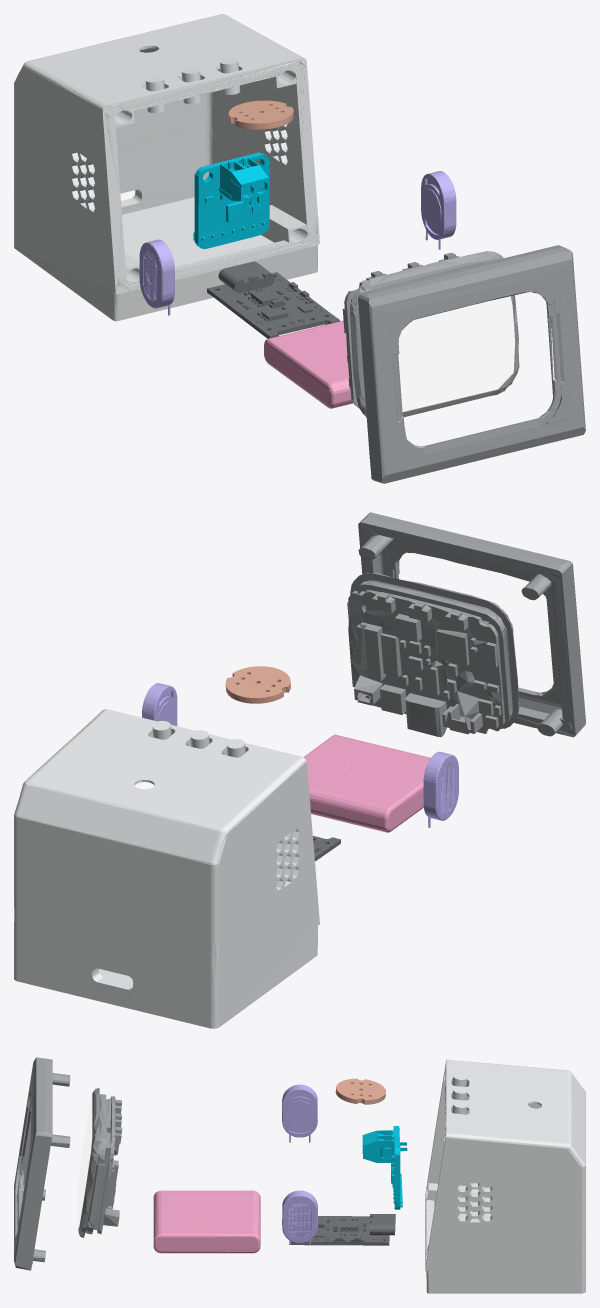
Rendered from v2-open.glb.
The picture shows the model from 3 angles, top to bottom: view 1: azimuth 30°, elevation 25°; view 2: azimuth 150°, elevation 25°; view 3: azimuth 270°, elevation 25°; orthographic projection. The views are drawn at different scales.
Visible parts, largest first — view 1: govde, taban, iva-screen, kart, ekran, hoparlor, yan-2, yan, buton; view 2: govde, taban, hoparlor, yan, buton, yan-2; view 3: govde, taban, hoparlor, ekran, kart, yan, yan-2, buton, iva-screen.
Boxes of the visible parts, x1=… form: govde: x1=14, y1=14, x2=319, y2=321; taban: x1=342, y1=245, x2=585, y2=483; iva-screen: x1=398, y1=261, x2=514, y2=411; kart: x1=193, y1=152, x2=269, y2=249; ekran: x1=207, y1=261, x2=339, y2=338; hoparlor: x1=264, y1=320, x2=353, y2=408; yan-2: x1=421, y1=171, x2=456, y2=249; yan: x1=139, y1=239, x2=174, y2=315; buton: x1=228, y1=100, x2=293, y2=129; govde: x1=14, y1=709, x2=319, y2=1028; taban: x1=347, y1=512, x2=585, y2=737; hoparlor: x1=303, y1=734, x2=430, y2=832; yan: x1=423, y1=751, x2=458, y2=827; buton: x1=225, y1=666, x2=290, y2=703; yan-2: x1=142, y1=683, x2=177, y2=725; govde: x1=425, y1=1059, x2=585, y2=1293; taban: x1=14, y1=1057, x2=122, y2=1270; hoparlor: x1=153, y1=1190, x2=260, y2=1253; ekran: x1=289, y1=1214, x2=395, y2=1245; kart: x1=362, y1=1126, x2=426, y2=1209; yan: x1=282, y1=1084, x2=317, y2=1142; yan-2: x1=282, y1=1190, x2=317, y2=1244; buton: x1=335, y1=1078, x2=445, y2=1104; iva-screen: x1=78, y1=1094, x2=92, y2=1228.
Size of the model in its own units: 0.42 by 0.2969 by 0.9143.
